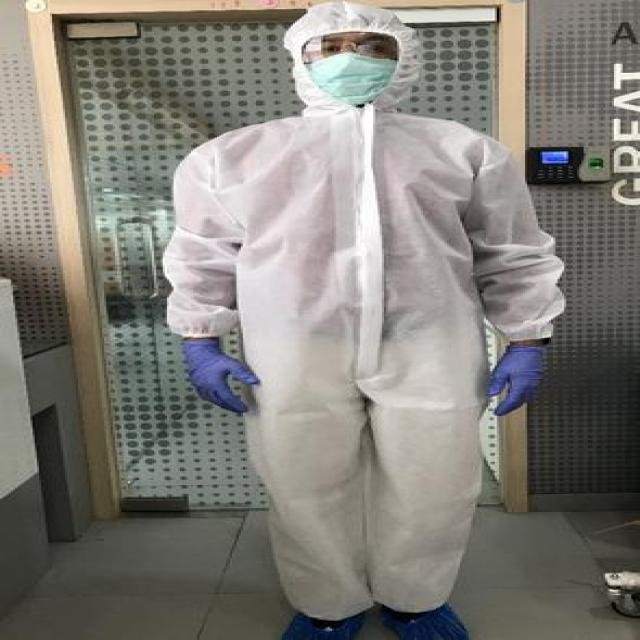Gloves: (180, 338, 264, 421), (473, 330, 552, 416)
Mask: (291, 51, 401, 108)
